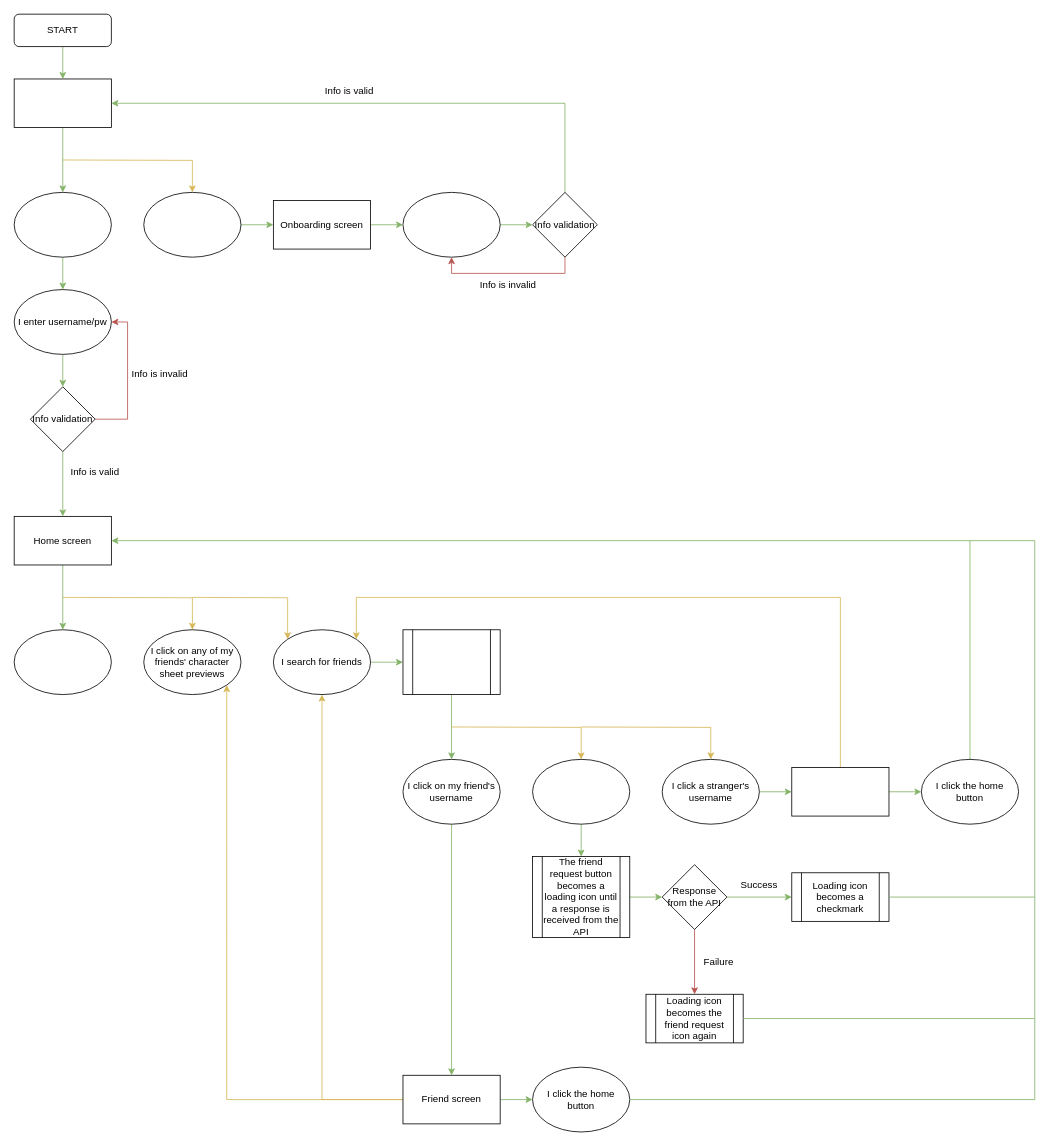
This 1050x1146 diagram has some shape labels left out. The shapes that lost their labels are listed below. From the top down, each one's box as (x1, y1, x2, y2) in pixels, then its label:
(13, 78, 111, 128): Splash/login screen
(13, 192, 111, 257): I click login
(143, 192, 241, 257): I click sign up
(402, 192, 500, 257): I enter username, email, password, confirm password
(13, 629, 111, 695): I click on any of my character sheet previews
(402, 629, 500, 695): Dropdown list populates with the top 20 usernames that match the search
(532, 759, 630, 824): I click the friend request button next to the username of a stranger
(791, 767, 889, 816): Stranger screen
